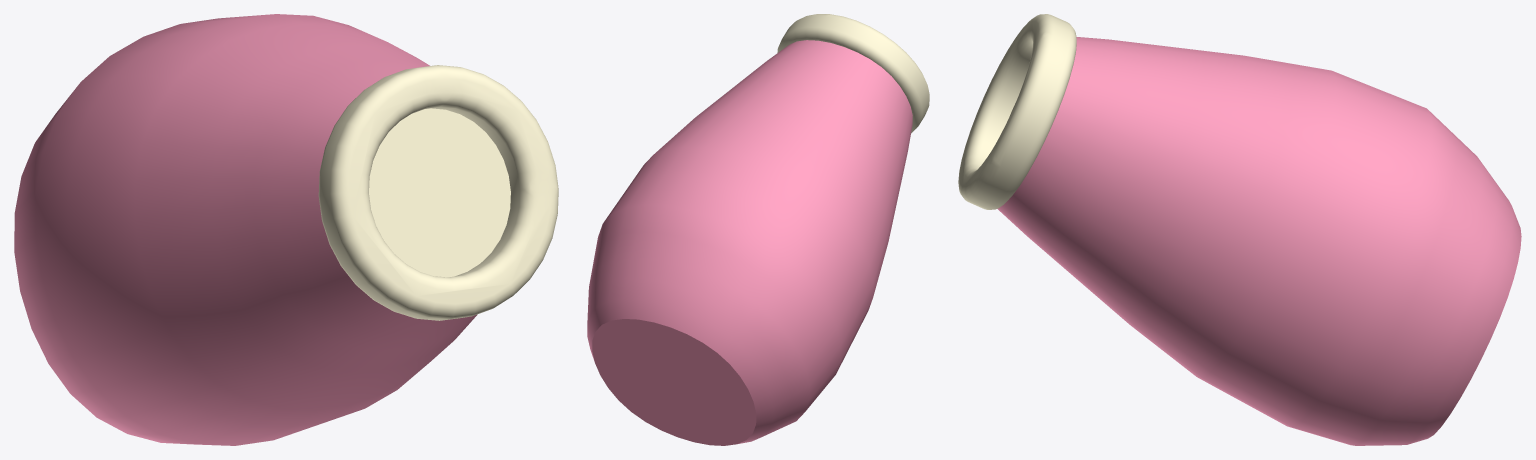
File: 2_cannon_gövde.fbx
3 views of the same model, side by side, from view 1: azimuth 30°, elevation 25°; view 2: azimuth 150°, elevation 25°; view 3: azimuth 270°, elevation 25° (orthographic). The views are drawn at different scales.
Parts seen in each view (by area): view 1: Cylinder.001; view 2: Cylinder.001; view 3: Cylinder.001.
Part boxes in pixels (<box>): Cylinder.001: <box>14,14,558,445</box>; Cylinder.001: <box>587,14,929,445</box>; Cylinder.001: <box>958,14,1521,445</box>.
Bounding box in the file's own units: 250 × 326 × 410.
